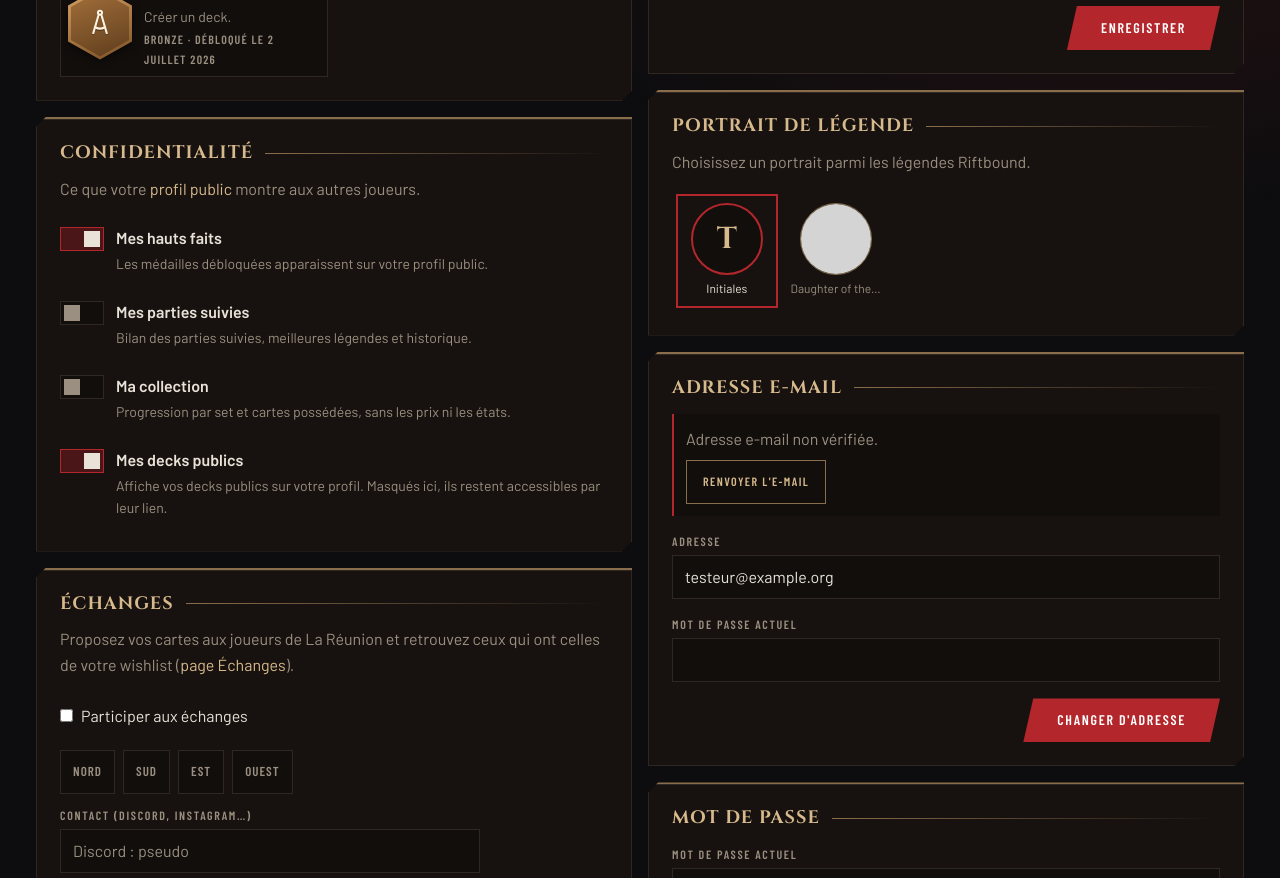
ProfileView › adresse non vérifiée : affiche le rappel et renvoie l'e-mail de vérification
(page scrolled)
Check: the element with class "compte-verif" shows "Adresse e-mail non vérifiée", box [686,429,878,448]
Click the button "Renvoyer l'e-mail" at (756, 482), box [686,460,826,504]
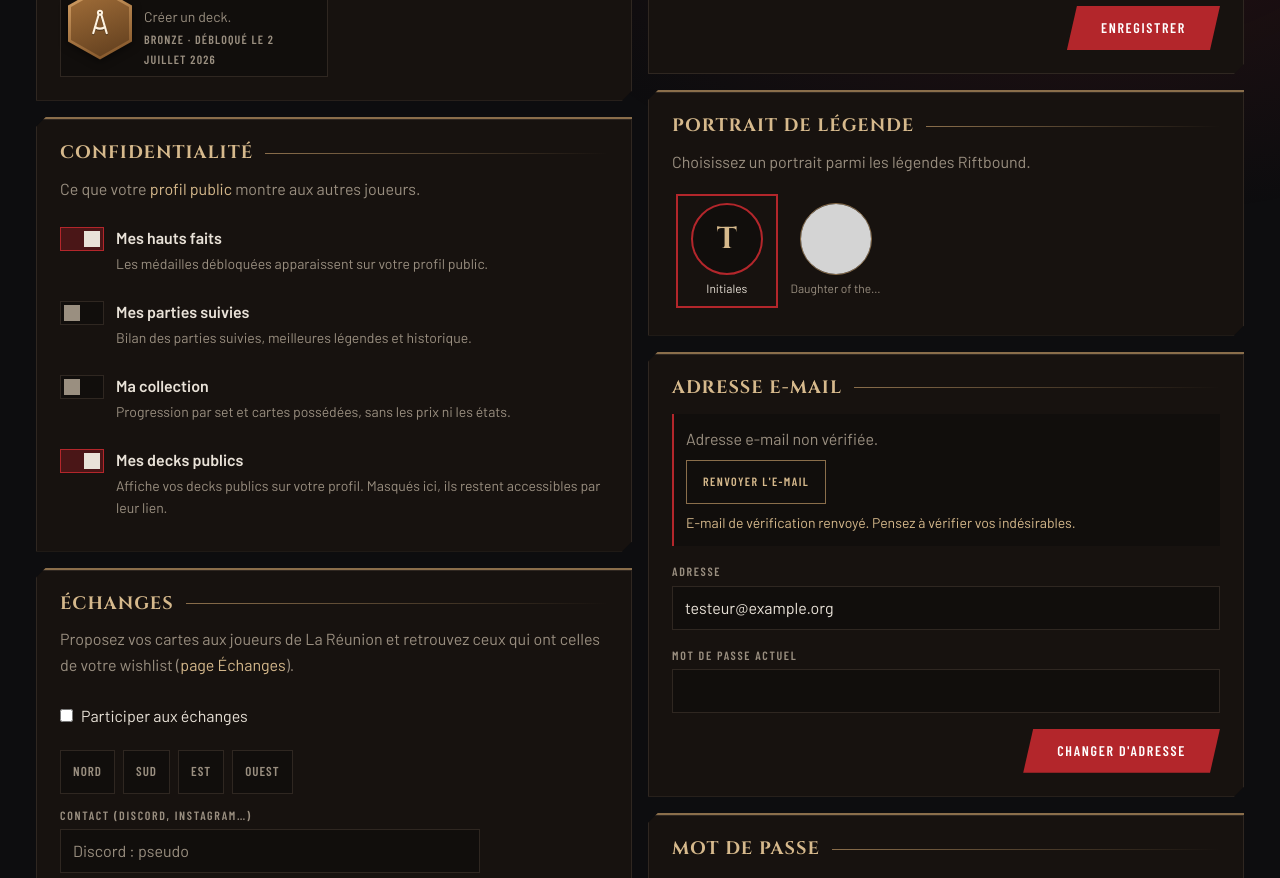
Check: the message with class "compte-succes" shows "E-mail de vérification renvoyé", box [686,514,1076,531]
